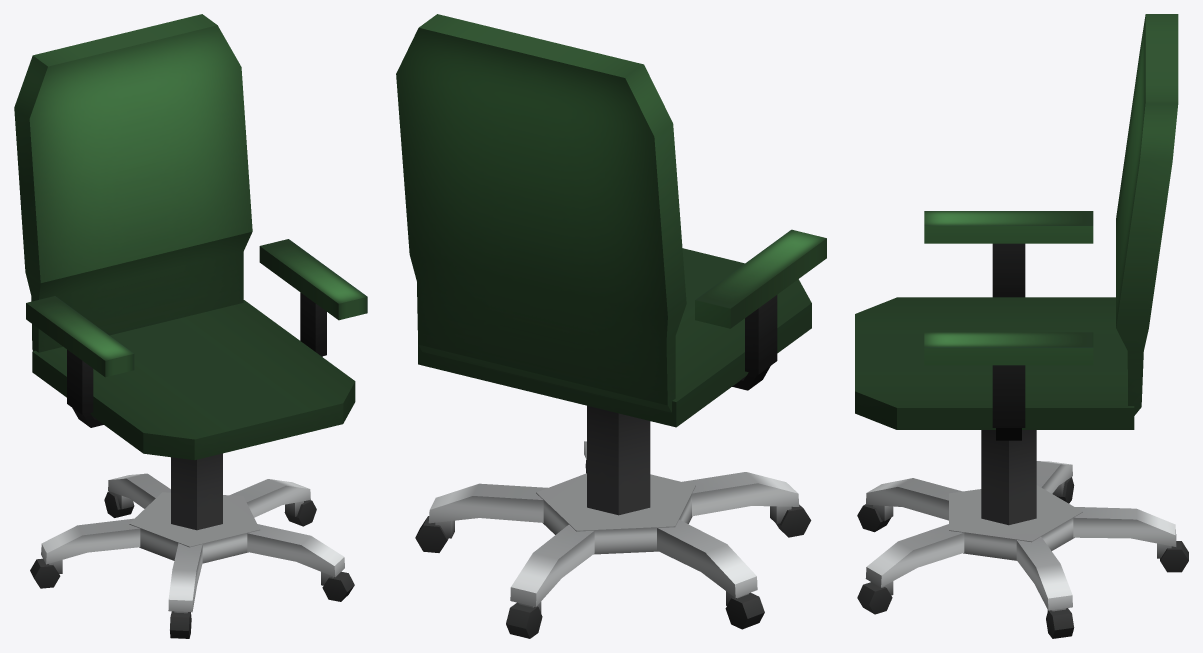
The model's file is OfficeChair.glb.
3 views of the same model, side by side, from view 1: azimuth 30°, elevation 25°; view 2: azimuth 150°, elevation 25°; view 3: azimuth 270°, elevation 25° (orthographic). The views are drawn at different scales.
Visible parts, largest first — view 1: Chair_Office_Green; view 2: Chair_Office_Green; view 3: Chair_Office_Green.
Boxes of the visible parts, left/top/right/bottom form: Chair_Office_Green: left=14, top=14, right=367, bottom=638; Chair_Office_Green: left=396, top=14, right=826, bottom=638; Chair_Office_Green: left=855, top=14, right=1188, bottom=638.
Size of the model in its own units: 0.6971 by 1.12 by 0.6673.
1 material, 1 textured.
